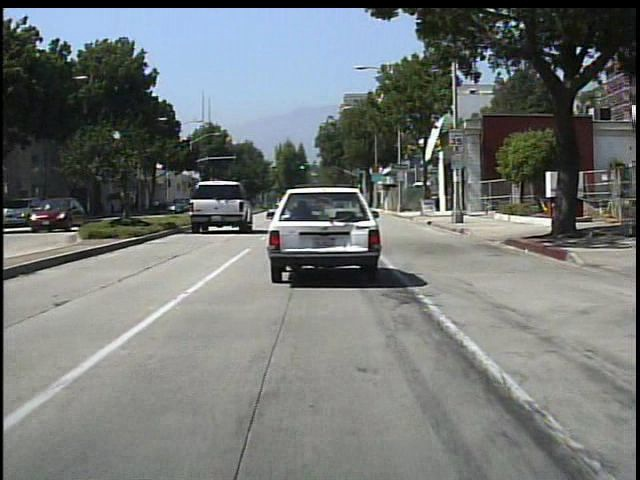person: (108, 197, 120, 219)
